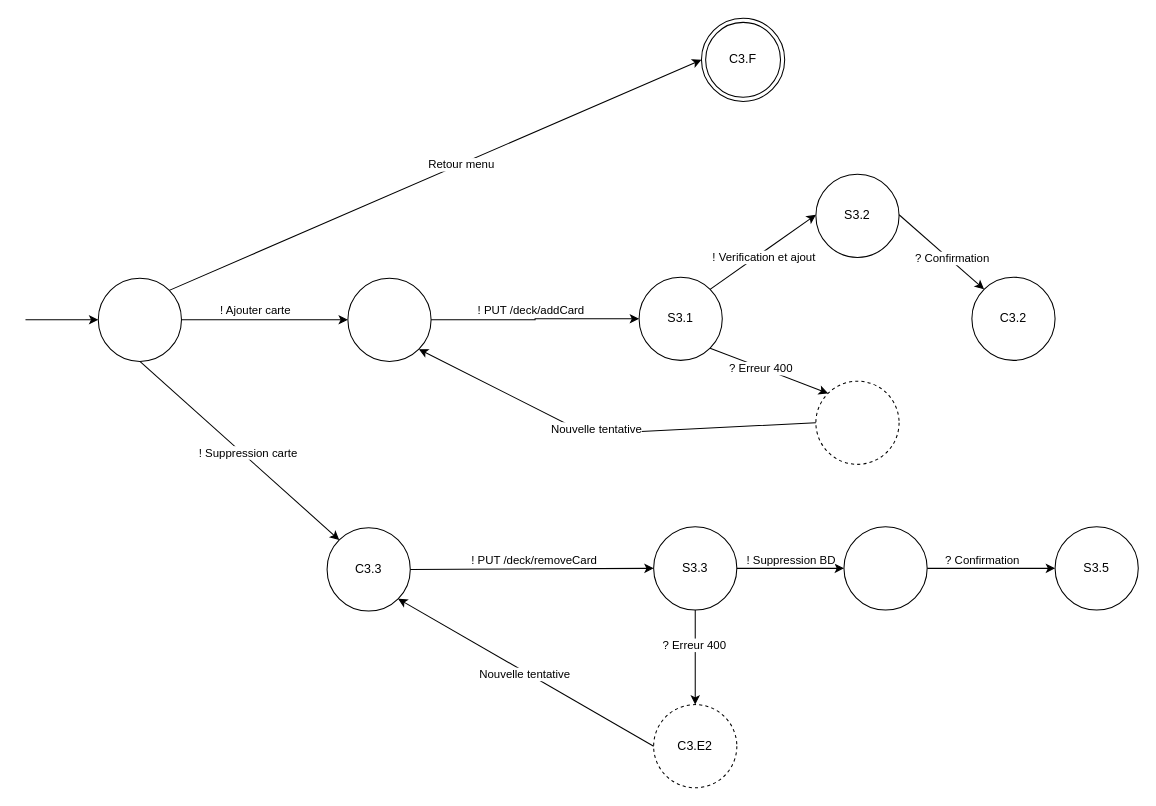
Some shapes in this 1156 by 806 pixel diagram are drawn without their labels. The shapes that lost their labels are listed below. From the top down, each one's box as (x1, y1, x2, y2) in pixels, then its label:
(97, 277, 181, 361): C3.0
(347, 277, 431, 361): C3.1
(815, 380, 899, 464): C3.E1
(843, 526, 927, 610): S3.4
